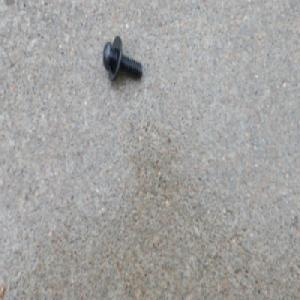BoltWasher: (102, 33, 143, 82)
